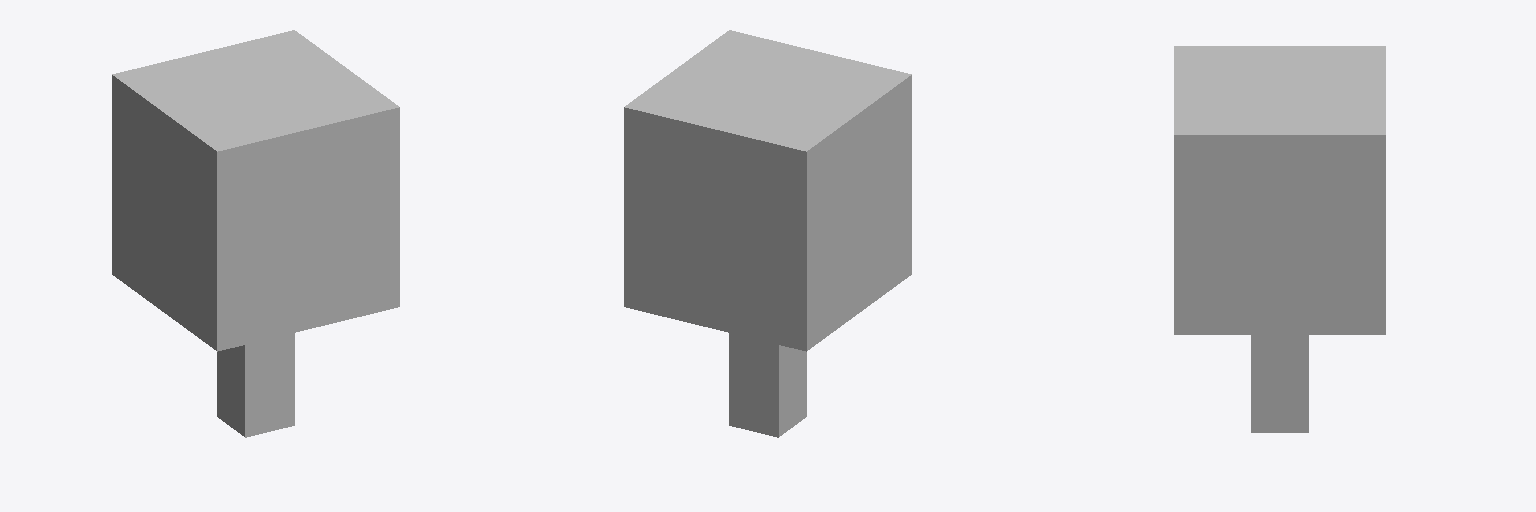
Rendered from wood.obj.
3 renders of one model, left to right at view 1: azimuth 30°, elevation 25°; view 2: azimuth 150°, elevation 25°; view 3: azimuth 270°, elevation 25°, orthographic.
Parts seen in each view (by area): view 1: object 1; view 2: object 1; view 3: object 1.
Part boxes in pixels (x1,y1,x2,y2): object 1: (112,30,399,437); object 1: (624,30,911,437); object 1: (1174,46,1385,432).
Bounding box in the file's own units: 2.2 × 3.8 × 2.2.